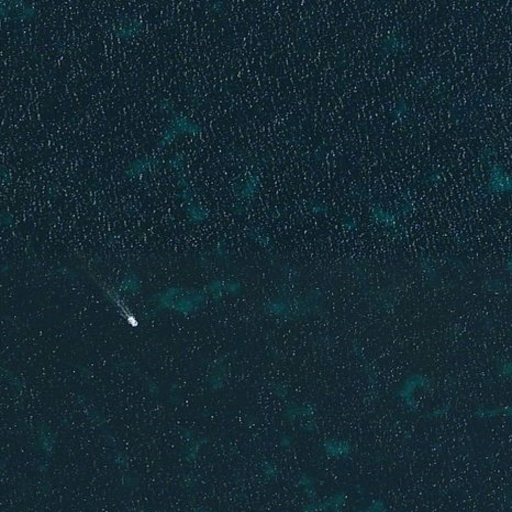ship: (124, 313, 139, 328)
